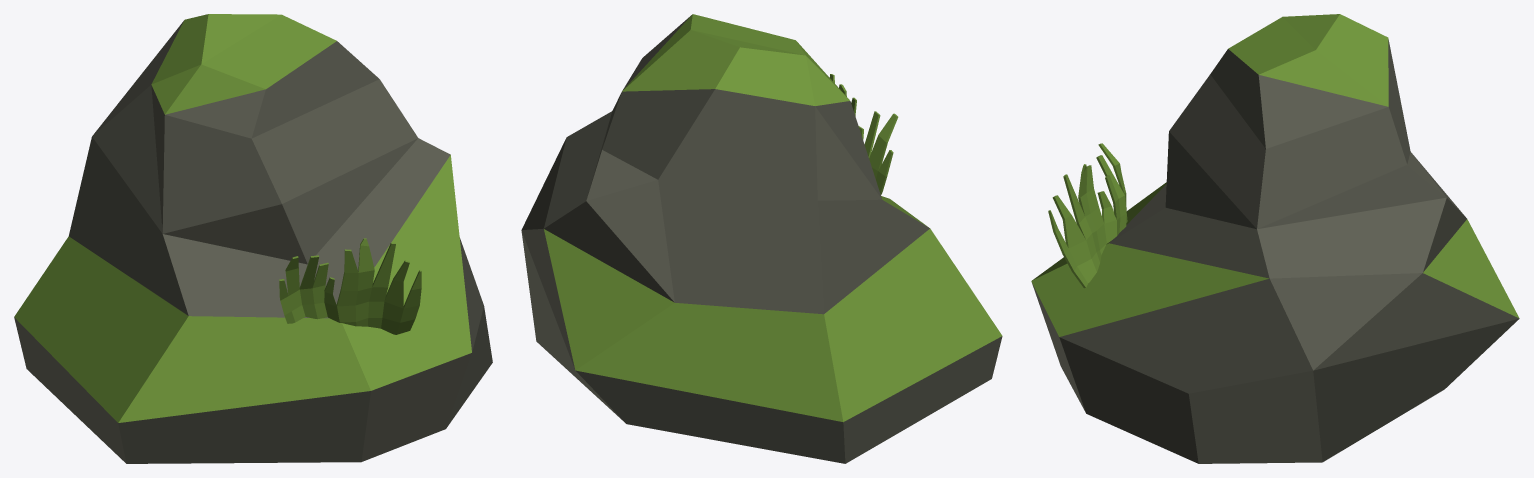
File: green_rock_L_05.fbx
The picture shows the model from 3 angles, left to right: view 1: azimuth 30°, elevation 25°; view 2: azimuth 150°, elevation 25°; view 3: azimuth 270°, elevation 25°; orthographic projection.
Visible parts, largest first — view 1: Cube.035; view 2: Cube.035; view 3: Cube.035.
Part boxes in pixels (x1=…): Cube.035: x1=14, y1=14, x2=492, y2=463; Cube.035: x1=521, y1=14, x2=1002, y2=463; Cube.035: x1=1031, y1=14, x2=1519, y2=463.
Size of the model in its own units: 688 by 566 by 723.
